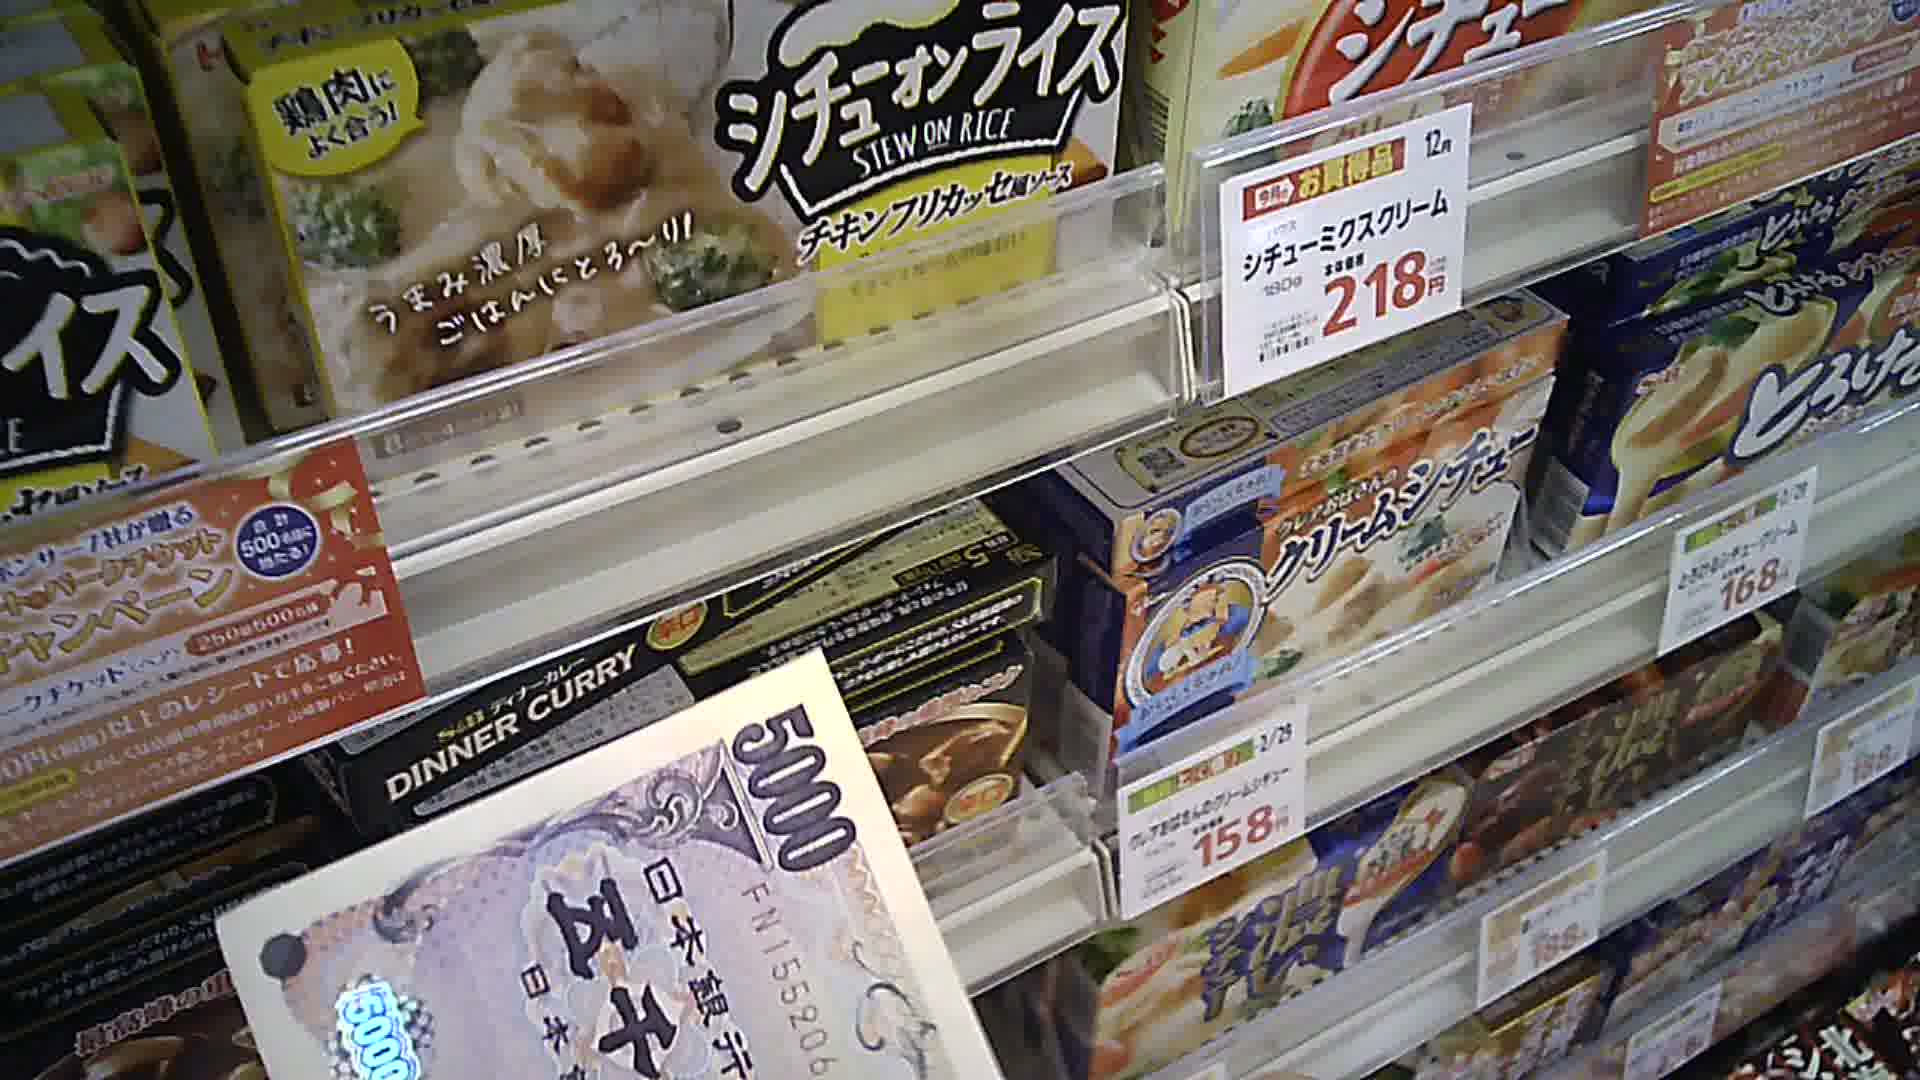5,000 Yen: (174, 669, 986, 1069)
